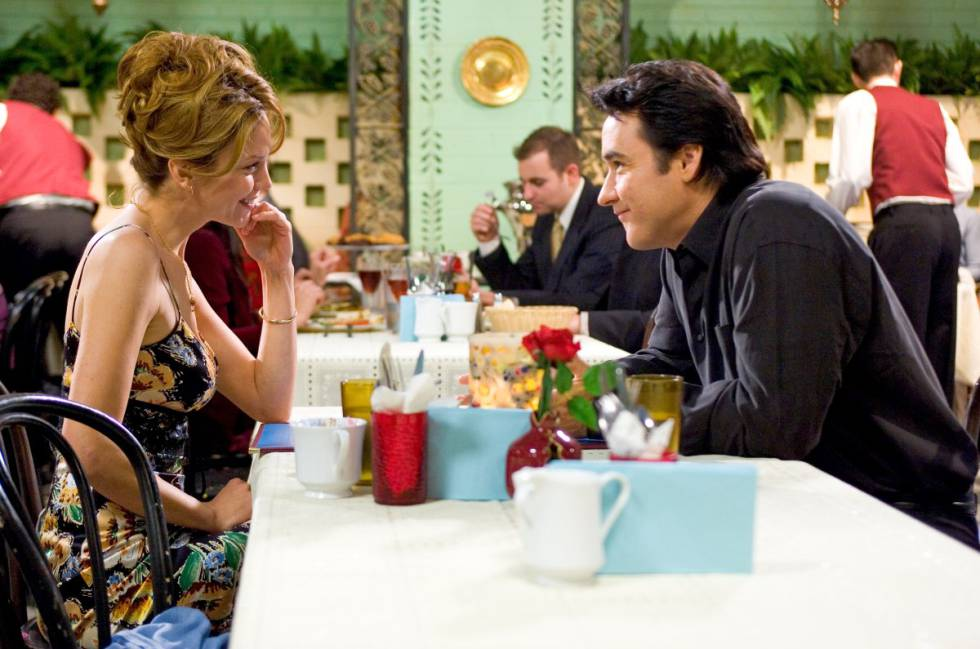person: (569, 49, 905, 471), (61, 20, 321, 469)
